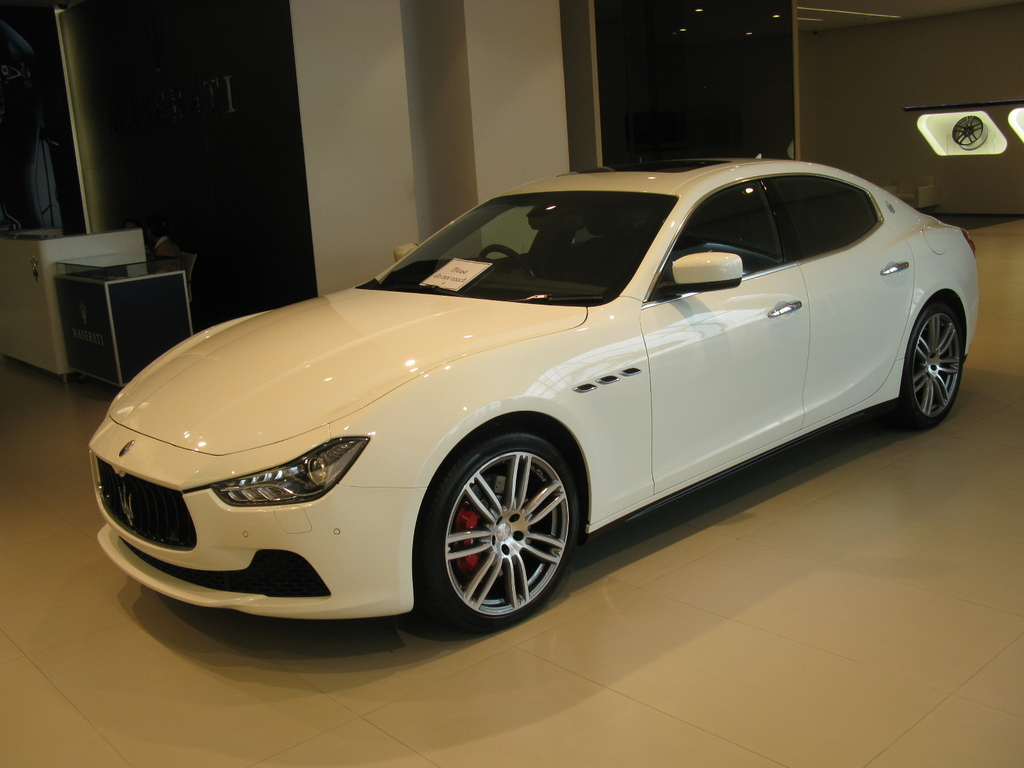mobil: (86, 160, 979, 633)
